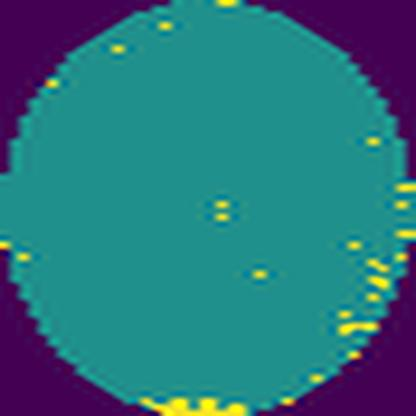Edge-Loc: (139, 393, 251, 416)
